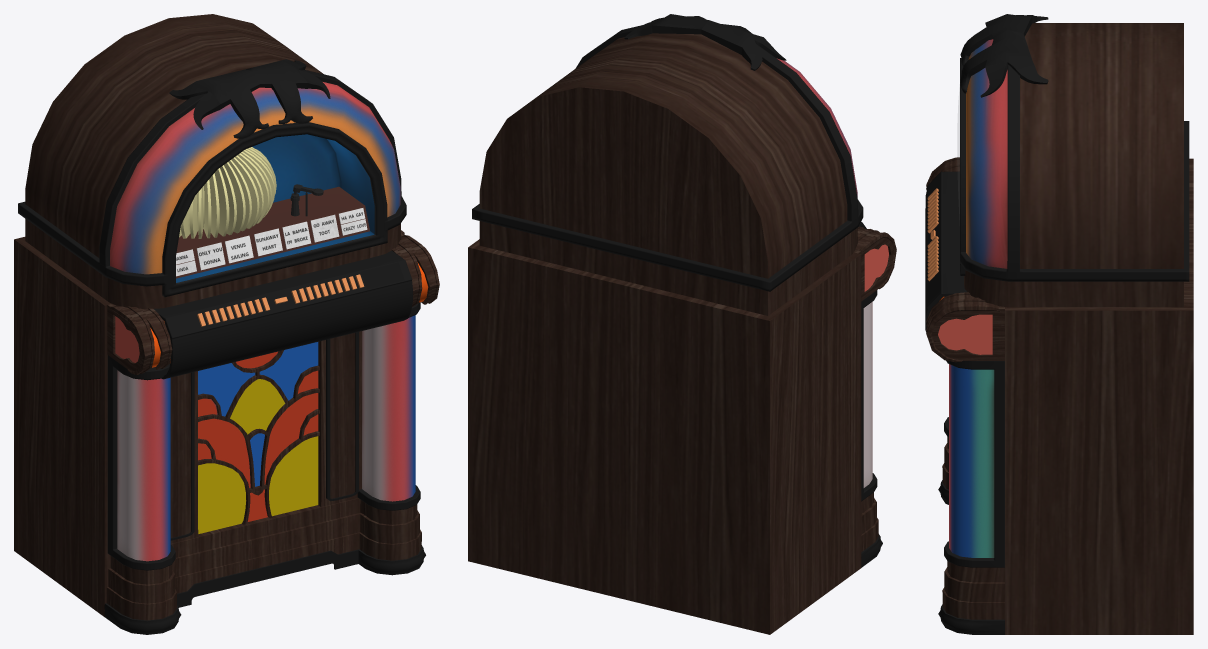
3 renders of one model, left to right at view 1: azimuth 30°, elevation 25°; view 2: azimuth 150°, elevation 25°; view 3: azimuth 270°, elevation 25°, orthographic. The views are drawn at different scales.
Visible parts, largest first — view 1: Archmodels_114_23_01, Archmodels_114_23_03, Archmodels_114_23_02, Archmodels_114_23_10, Archmodels_114_23_13, Archmodels_114_23_11, Archmodels_114_23_15, Archmodels_114_23_04; view 2: Archmodels_114_23_01, Archmodels_114_23_02, Archmodels_114_23_03, Archmodels_114_23_04; view 3: Archmodels_114_23_01, Archmodels_114_23_02, Archmodels_114_23_03, Archmodels_114_23_05, Archmodels_114_23_15.
Boxes of the visible parts, left/top/right/bottom form: Archmodels_114_23_01: left=14, top=14, right=439, bottom=620; Archmodels_114_23_03: left=110, top=82, right=415, bottom=561; Archmodels_114_23_02: left=18, top=59, right=425, bottom=634; Archmodels_114_23_10: left=179, top=147, right=276, bottom=238; Archmodels_114_23_13: left=176, top=186, right=369, bottom=278; Archmodels_114_23_11: left=176, top=208, right=367, bottom=276; Archmodels_114_23_15: left=197, top=274, right=364, bottom=326; Archmodels_114_23_04: left=115, top=316, right=139, bottom=362; Archmodels_114_23_01: left=468, top=33, right=896, bottom=634; Archmodels_114_23_02: left=472, top=14, right=882, bottom=567; Archmodels_114_23_03: left=777, top=58, right=872, bottom=487; Archmodels_114_23_04: left=864, top=244, right=888, bottom=291; Archmodels_114_23_01: left=926, top=23, right=1193, bottom=634; Archmodels_114_23_02: left=925, top=14, right=1189, bottom=634; Archmodels_114_23_03: left=949, top=39, right=1007, bottom=557; Archmodels_114_23_05: left=938, top=314, right=992, bottom=354; Archmodels_114_23_15: left=927, top=188, right=938, bottom=281.
Bounding box in the file's own units: 19.69 × 31.47 × 14.45.
